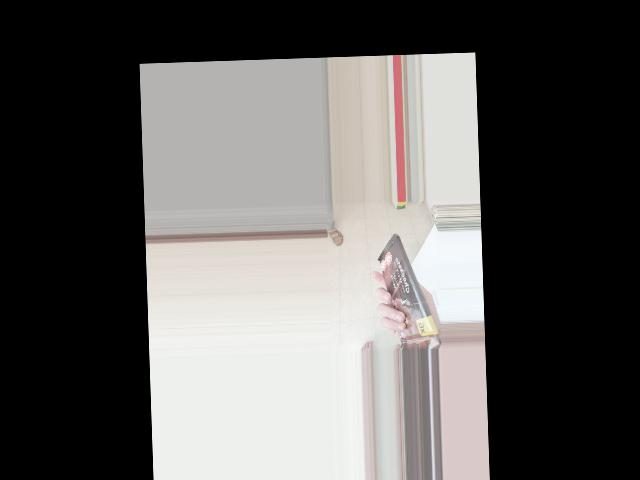chocolate: (378, 235, 433, 351)
